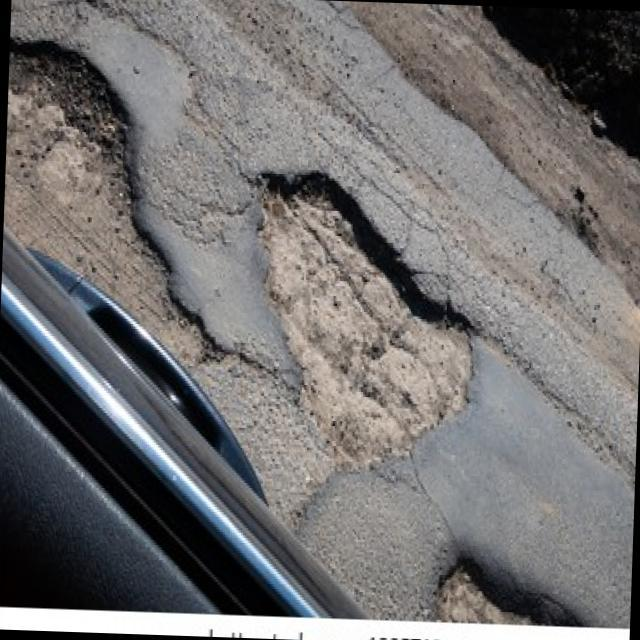Pothole: (0, 24, 216, 369), (250, 168, 480, 433), (432, 554, 549, 623)
